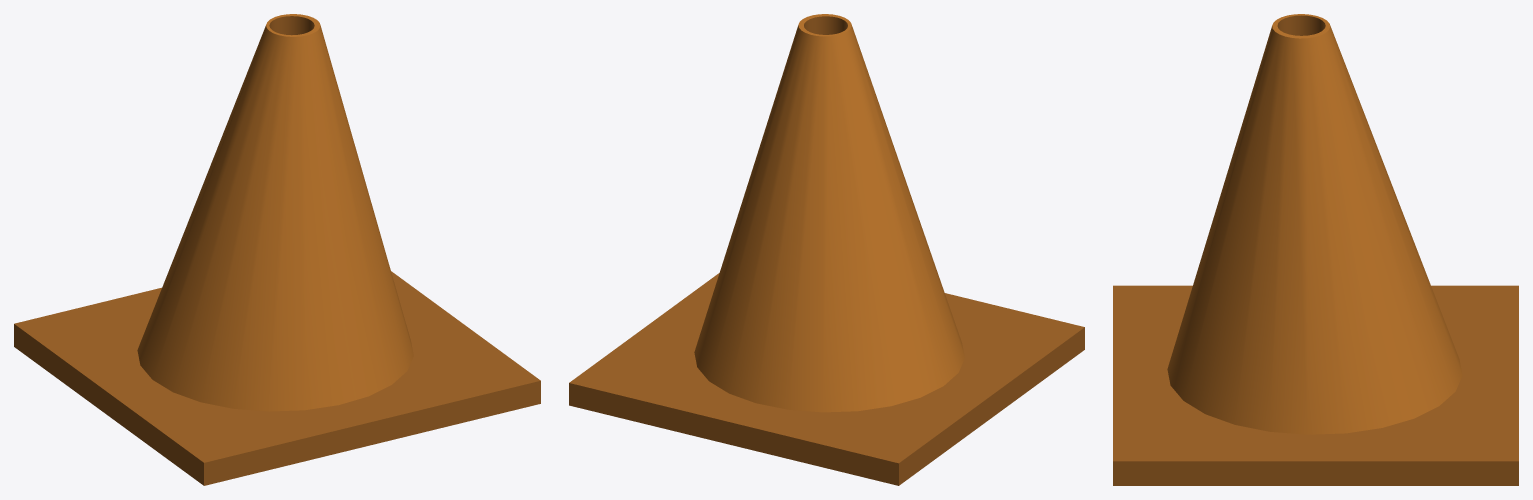
3 views of the same model, side by side, from view 1: azimuth 30°, elevation 25°; view 2: azimuth 150°, elevation 25°; view 3: azimuth 270°, elevation 25° (orthographic). The views are drawn at different scales.
Parts seen in each view (by area): view 1: SketchUp (×3); view 2: SketchUp (×3); view 3: SketchUp (×3).
Boxes of the visible parts, box(x1,y1,x2,y2) form: SketchUp (×3): box(14, 14, 540, 485); SketchUp (×3): box(569, 14, 1084, 485); SketchUp (×3): box(1113, 14, 1518, 485).
Size of the model in its own units: 128 by 125 by 128.
